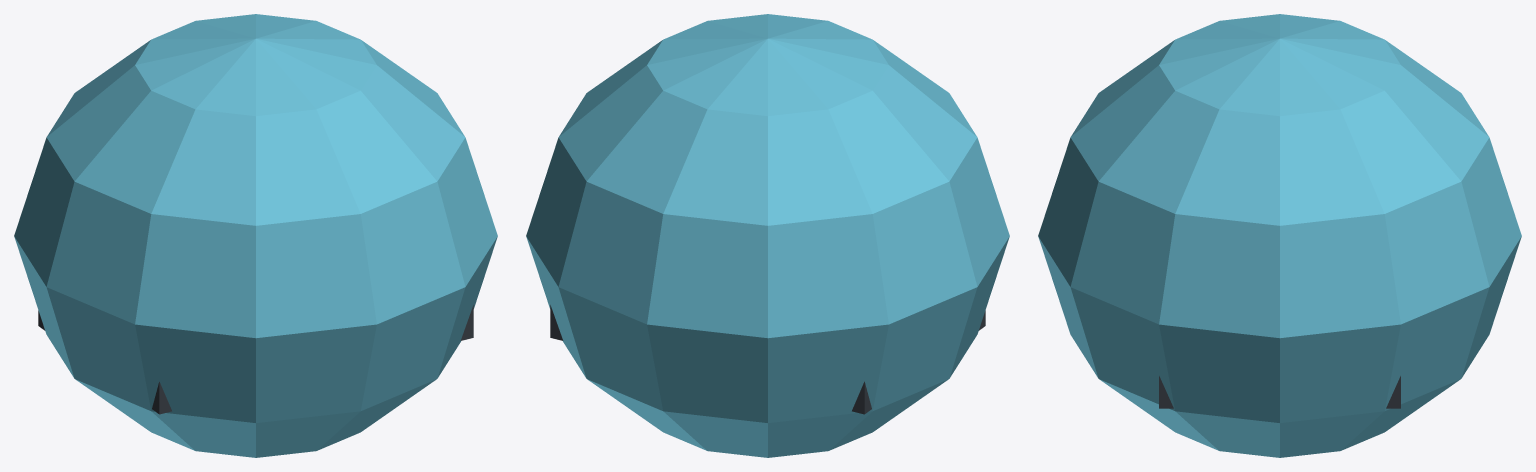
File: barrier-environmental.glb
3 renders of one model, left to right at view 1: azimuth 30°, elevation 25°; view 2: azimuth 150°, elevation 25°; view 3: azimuth 270°, elevation 25°, orthographic.
Visible parts, largest first — view 1: m; view 2: m; view 3: m.
Boxes of the visible parts, left/top/right/bottom form: m: left=14, top=14, right=497, bottom=457; m: left=526, top=14, right=1009, bottom=457; m: left=1038, top=14, right=1521, bottom=457.
Size of the model in its own units: 0.1111 by 0.1 by 0.1111.
